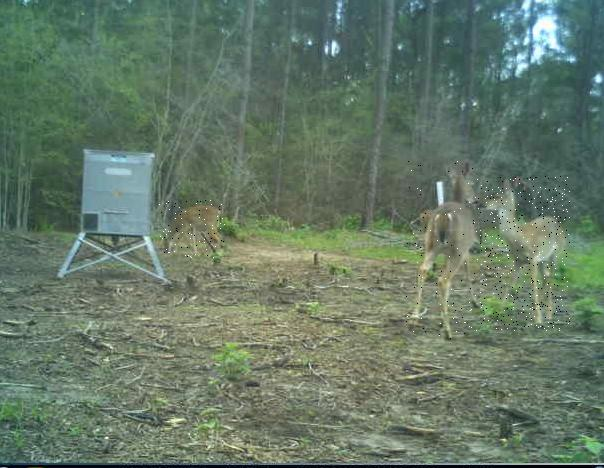Deer: (406, 160, 483, 342), (481, 177, 571, 332), (159, 200, 225, 258)
